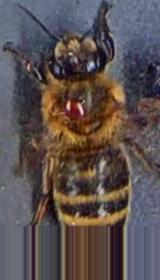varroa_mite: (56, 93, 88, 124)
